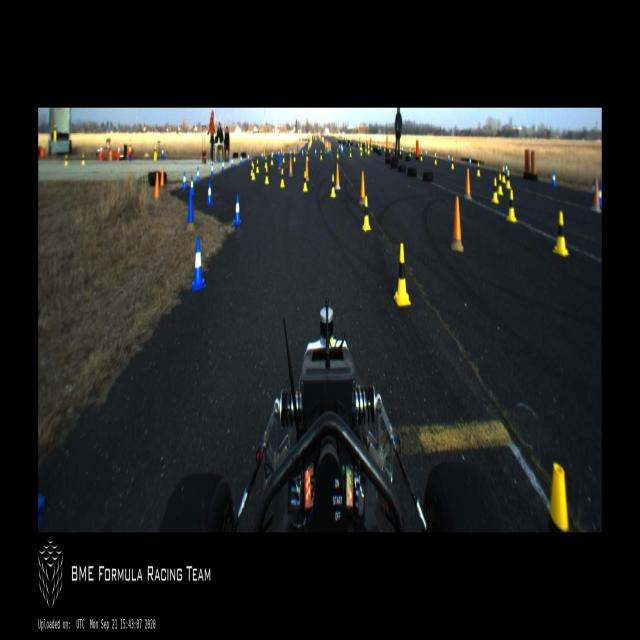blue_cone: (191, 237, 206, 290), (234, 194, 241, 225), (207, 182, 212, 204), (190, 175, 195, 197), (551, 171, 557, 187), (598, 184, 602, 207), (591, 179, 595, 199), (183, 172, 187, 190), (196, 166, 200, 182), (210, 161, 214, 177), (504, 162, 508, 176), (468, 156, 472, 168), (231, 156, 233, 169), (222, 160, 224, 172), (448, 153, 450, 162)
unknown_cone: (450, 195, 464, 252), (359, 171, 365, 205)
yellow_cone: (393, 243, 411, 305), (553, 210, 570, 256), (507, 190, 517, 222), (362, 197, 371, 230), (492, 178, 499, 203), (330, 174, 336, 197), (498, 172, 503, 195), (505, 171, 511, 189), (303, 172, 308, 192), (280, 169, 285, 187), (501, 164, 506, 182), (476, 162, 481, 176), (265, 168, 269, 184), (256, 159, 259, 173), (252, 166, 255, 180), (282, 152, 286, 162), (451, 157, 454, 169), (250, 161, 252, 177), (434, 154, 437, 164), (420, 151, 423, 161), (265, 156, 267, 168), (270, 154, 272, 166), (306, 150, 308, 161), (294, 152, 296, 161), (320, 151, 322, 159)
